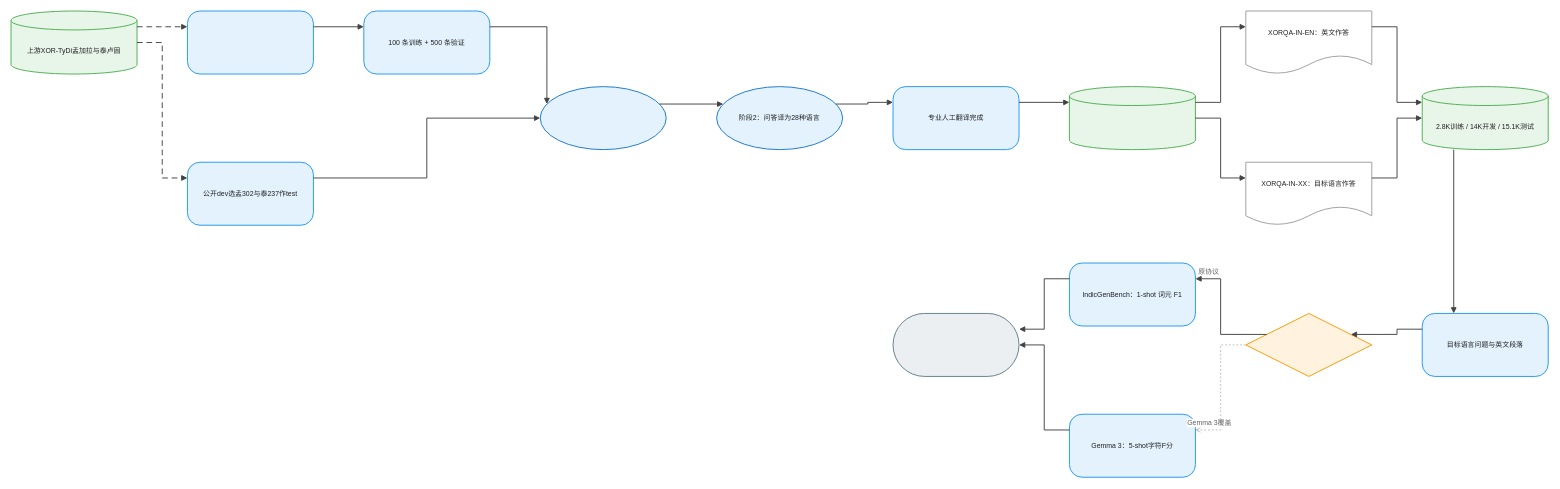
Some shapes in this 1560 by 489 pixel diagram are drawn without their labels. Here are the shapes that lost their labels. From the top down, the centre of each, then its label:
(x=250, y=42): 600个等量train种子
(x=602, y=118): 阶段1：问题译为英文
(x=1132, y=118): 共享双语记录
(x=955, y=345): IN-EN与IN-XX结果
(x=1308, y=345): 评测协议
